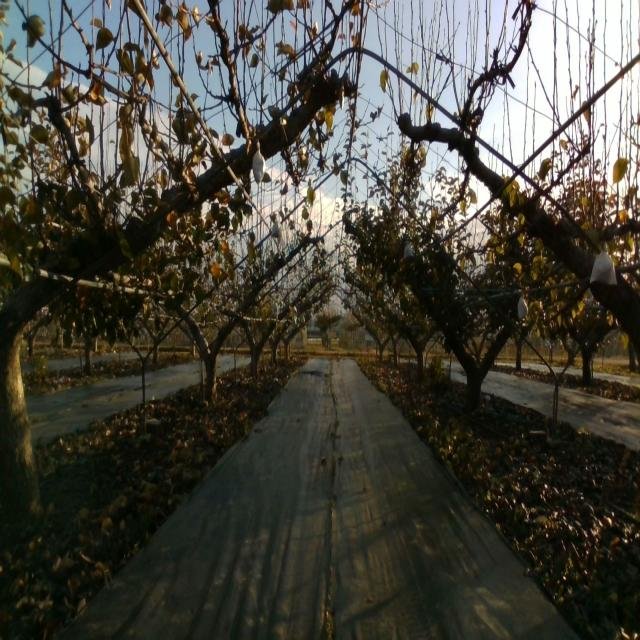pearbags: (588, 240, 618, 286), (252, 142, 267, 185), (270, 220, 284, 240), (517, 294, 528, 319)
